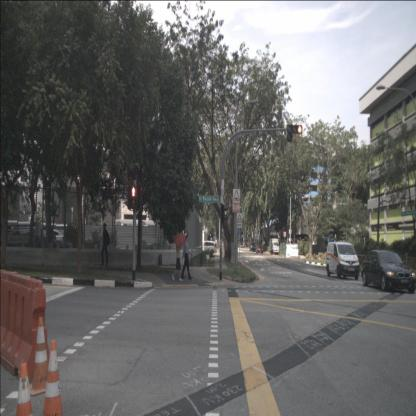barrier: (0, 269, 52, 383)
cone: (29, 316, 53, 396), (41, 339, 65, 415), (14, 362, 34, 415)
